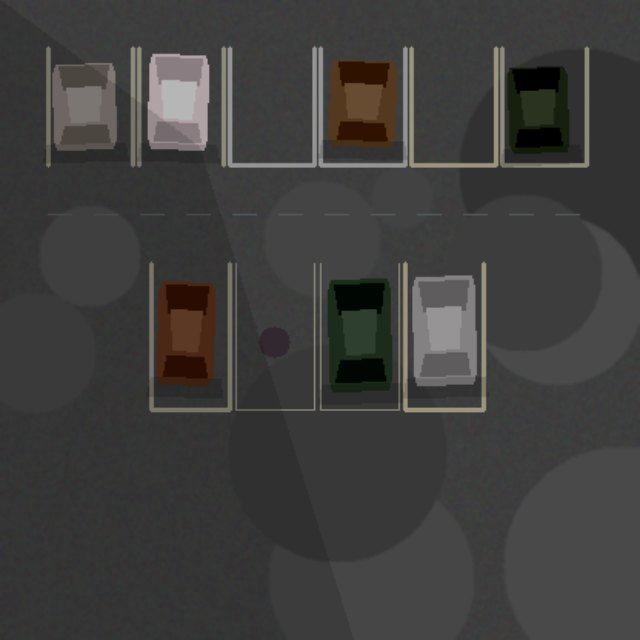space-empty: (235, 263, 314, 409), (229, 48, 314, 165), (411, 48, 495, 165)
space-occupied: (151, 263, 229, 409), (320, 263, 398, 409), (405, 263, 483, 409), (138, 48, 223, 165), (320, 48, 405, 165), (48, 48, 132, 165), (502, 48, 586, 165)
